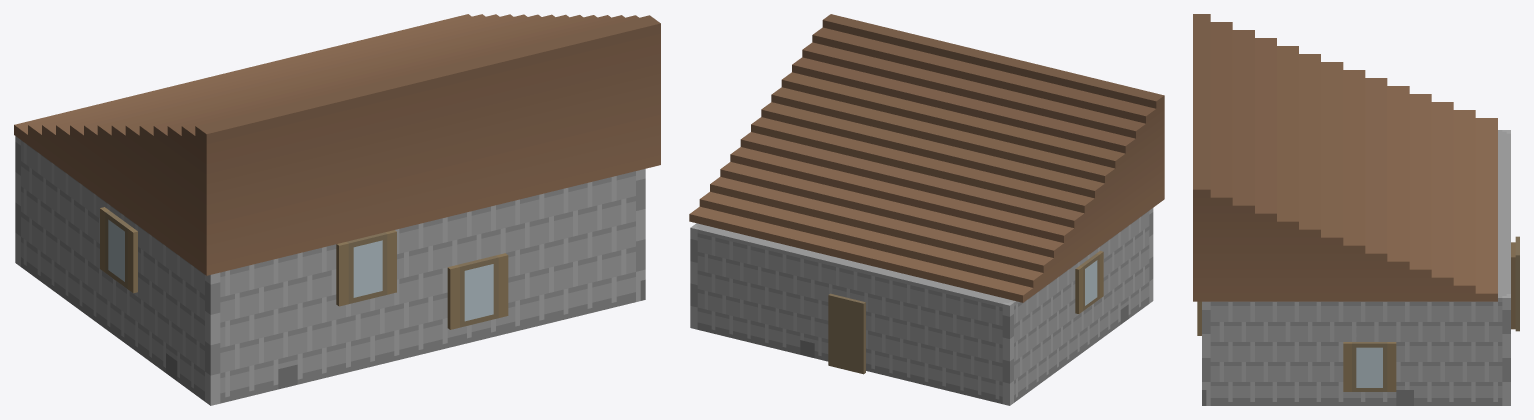
Rendered from ruina_04.glb.
The picture shows the model from 3 angles, left to right: view 1: azimuth 30°, elevation 25°; view 2: azimuth 150°, elevation 25°; view 3: azimuth 270°, elevation 25°; orthographic projection. The views are drawn at different scales.
Visible parts, largest first — view 1: ruina_04; view 2: ruina_04; view 3: ruina_04.
Boxes of the visible parts, left/top/right/bottom form: ruina_04: left=14, top=14, right=660, bottom=405; ruina_04: left=689, top=14, right=1164, bottom=405; ruina_04: left=1193, top=14, right=1519, bottom=405.
Size of the model in its own units: 9.4 by 5.5 by 7.4.
